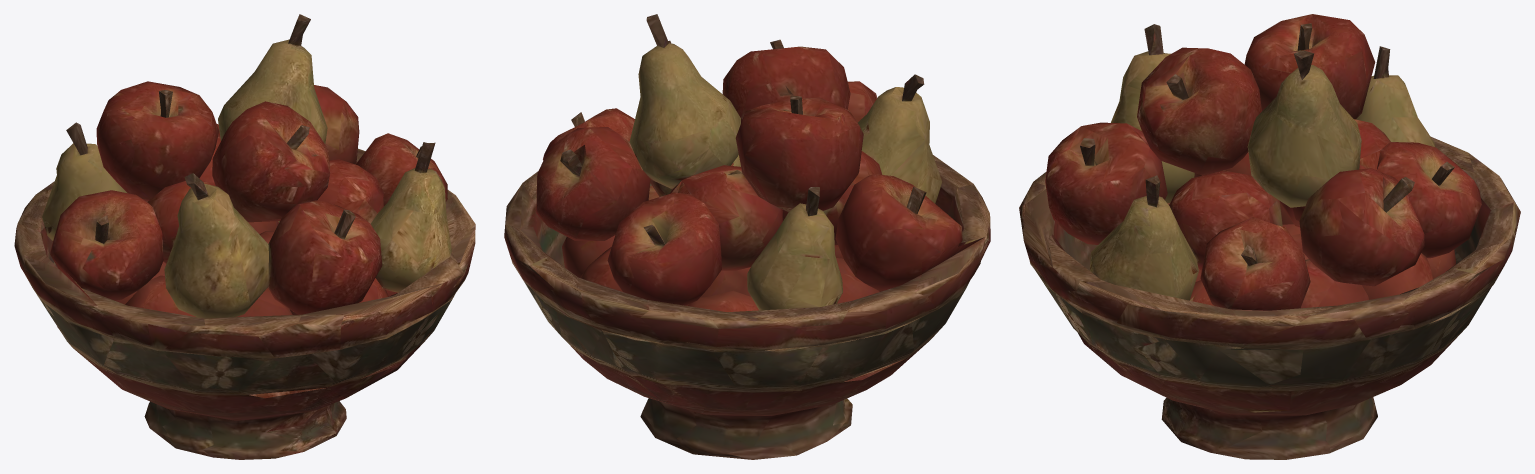
File: k_fruit_bowl.glb
3 views of the same model, side by side, from view 1: azimuth 30°, elevation 25°; view 2: azimuth 150°, elevation 25°; view 3: azimuth 270°, elevation 25° (orthographic). The views are drawn at different scales.
Visible parts, largest first — view 1: k_fruit_bowl; view 2: k_fruit_bowl; view 3: k_fruit_bowl.
Part boxes in pixels (x1,y1,x2,y2): k_fruit_bowl: [14, 14, 475, 459]; k_fruit_bowl: [504, 14, 990, 459]; k_fruit_bowl: [1019, 14, 1520, 459].
Size of the model in its own units: 0.2028 by 0.18 by 0.2036.
Materials: 1 (1 with a texture image).
